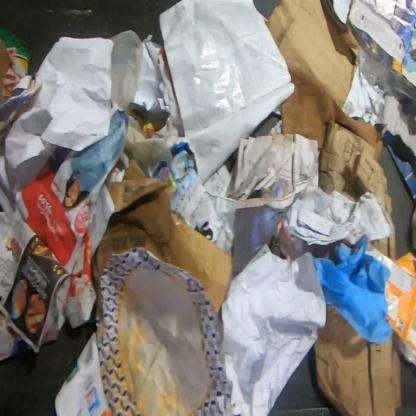cardboard: (93, 158, 234, 337), (266, 1, 384, 167), (318, 122, 396, 262), (314, 302, 401, 416), (365, 242, 415, 365), (0, 23, 30, 108)
